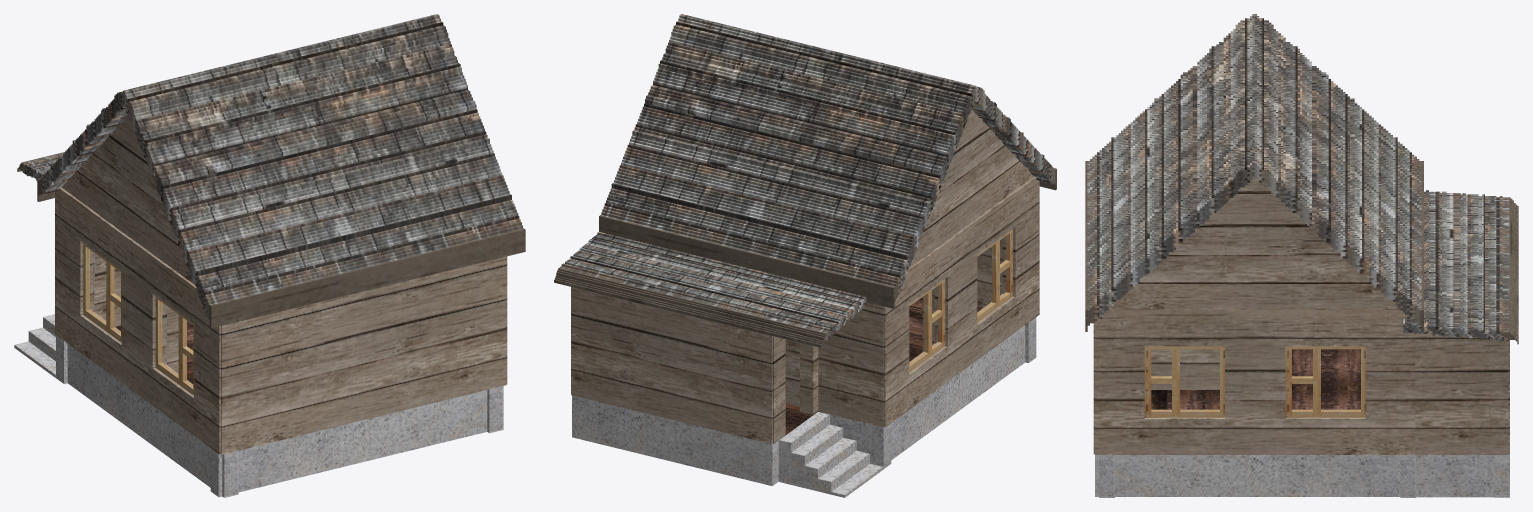
3 views of the same model, side by side, from view 1: azimuth 30°, elevation 25°; view 2: azimuth 150°, elevation 25°; view 3: azimuth 270°, elevation 25° (orthographic). The views are drawn at different scales.
Visible parts, largest first — view 1: -_129, doski1, Matrix002, Matrix_005, Matrix_2, Matrix_4, -_128, Matrix_010, Matrix_9, Matrix_17, doski1_1, Matrix_006 (+2 smaller); view 2: -_128, Matrix_14, Matrix002, 129, Fundament1, doski1_1, Matrix_2, Matrix_17, Matrix_4, -_129, _3, Matrix_5 (+4 smaller); view 3: Matrix001, -_129, -_128, Matrix_013, 129, Matrix_006, _1, Matrix_8, Fundament2, Matrix_012, Matrix_011, _5 (+3 smaller).
Boxes of the visible parts, x1,y1,x2,y2 form: -_129: [124, 15, 525, 328]; doski1: [221, 256, 506, 454]; Matrix002: [55, 187, 220, 454]; Matrix_005: [210, 390, 487, 497]; Matrix_2: [61, 116, 195, 284]; Matrix_4: [67, 344, 238, 497]; -_128: [37, 14, 438, 201]; Matrix_010: [155, 296, 193, 395]; Matrix_9: [83, 243, 121, 342]; Matrix_17: [14, 314, 55, 377]; doski1_1: [94, 253, 120, 326]; Matrix_006: [487, 386, 503, 433]; -_128: [599, 15, 975, 308]; Matrix_14: [571, 287, 772, 443]; Matrix002: [884, 177, 1039, 427]; 129: [554, 232, 868, 347]; Fundament1: [572, 395, 778, 485]; doski1_1: [785, 303, 883, 427]; Matrix_2: [908, 110, 1033, 267]; Matrix_17: [778, 412, 883, 497]; Matrix_4: [891, 325, 1025, 459]; -_129: [681, 14, 1056, 190]; _3: [772, 336, 818, 443]; Matrix_5: [818, 411, 891, 469]; Matrix001: [1095, 310, 1415, 454]; -_129: [1085, 14, 1254, 331]; -_128: [1254, 14, 1423, 331]; Matrix_013: [1109, 178, 1399, 309]; 129: [1403, 190, 1518, 344]; Matrix_006: [1095, 455, 1400, 496]; _1: [1415, 332, 1508, 454]; Matrix_8: [1151, 349, 1360, 409]; Fundament2: [1416, 455, 1493, 497]; Matrix_012: [1144, 346, 1224, 417]; Matrix_011: [1285, 346, 1365, 417]; _5: [1151, 349, 1219, 389].
Bounding box in the file's own units: 221 × 236 × 271.
